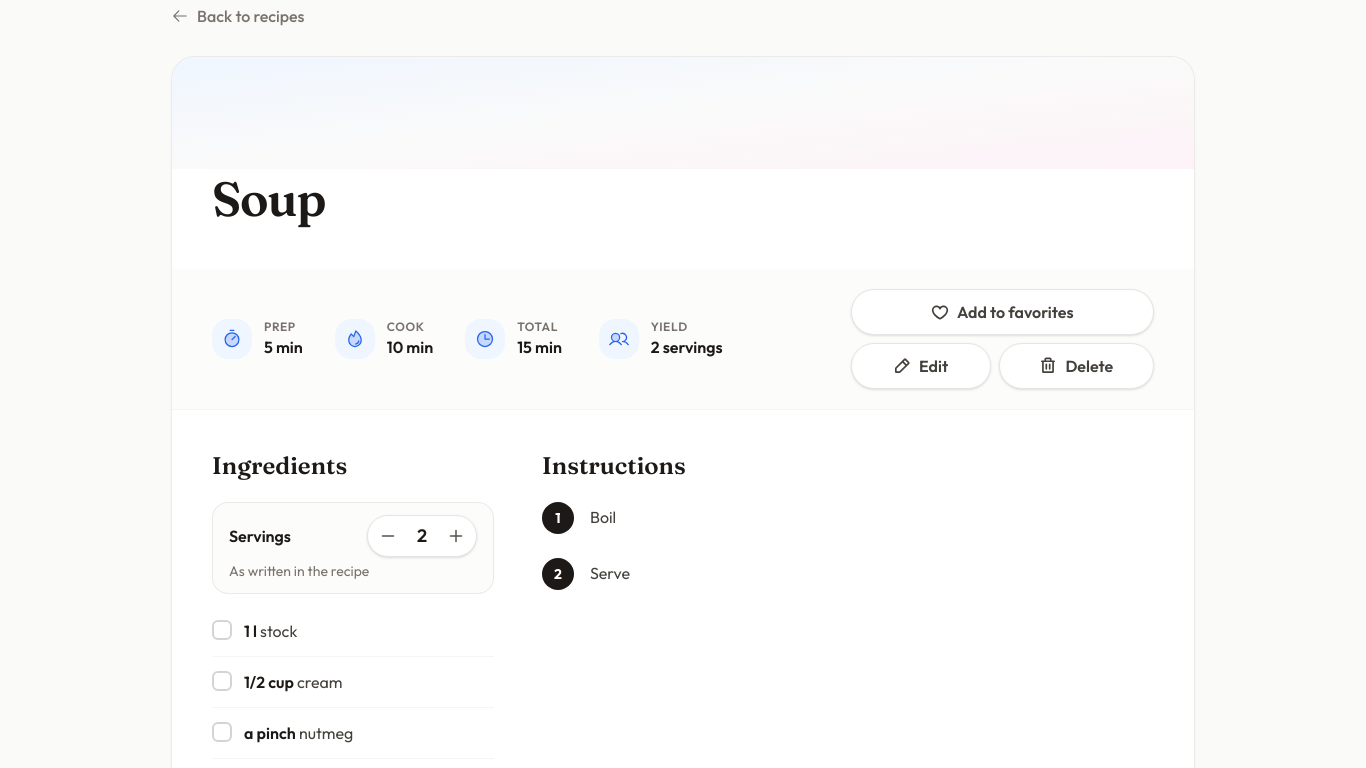
serving size › scales numeric amounts and leaves the rest as written
Expected: the heading "Soup" is shown, x1=212 y1=169 x2=325 y2=228
Click the button named "More servings" at point(456, 536), box x1=440 y1=520 x2=472 y2=552
(page scrolled)
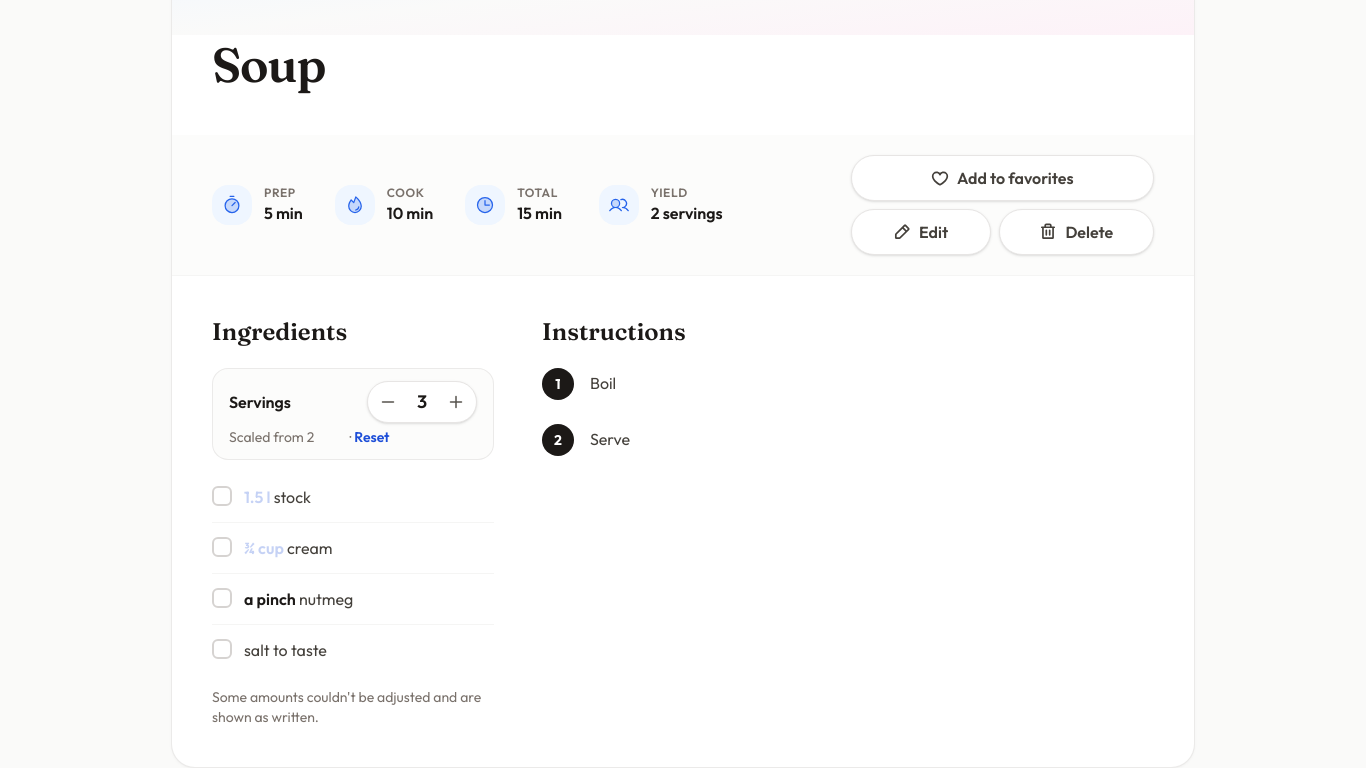
Now the text "1.5 l" is shown, box x1=244 y1=487 x2=274 y2=507
Now the text "¾ cup" is shown, box x1=244 y1=538 x2=287 y2=558
Now the text "Scaled from 2" is shown, box x1=229 y1=427 x2=314 y2=447
